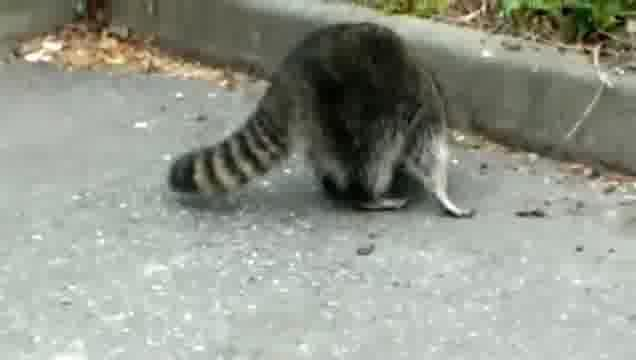raccoon: (164, 18, 477, 227)
